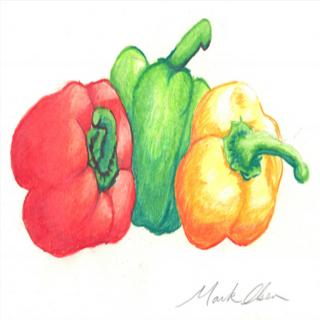Bell pepper: (176, 80, 306, 254), (11, 79, 136, 259), (109, 18, 212, 236)
